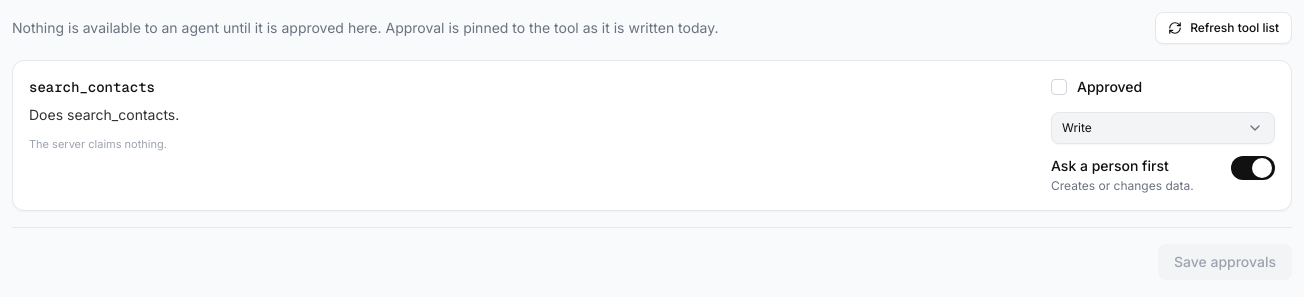
nothing is approved by default › keeps Save disabled until something changes
The image size is (1304, 297).
Check: the button "Save approvals" is disabled, box [1158, 244, 1292, 280]
Click the checkbox labelled "Approved": click(1059, 87) [1051, 79, 1067, 95]
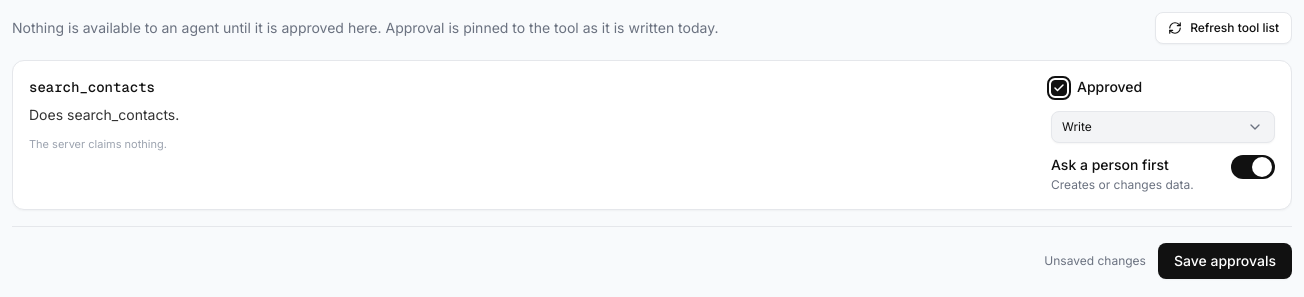
Check: the button "Save approvals" is enabled, box [1158, 243, 1292, 279]
